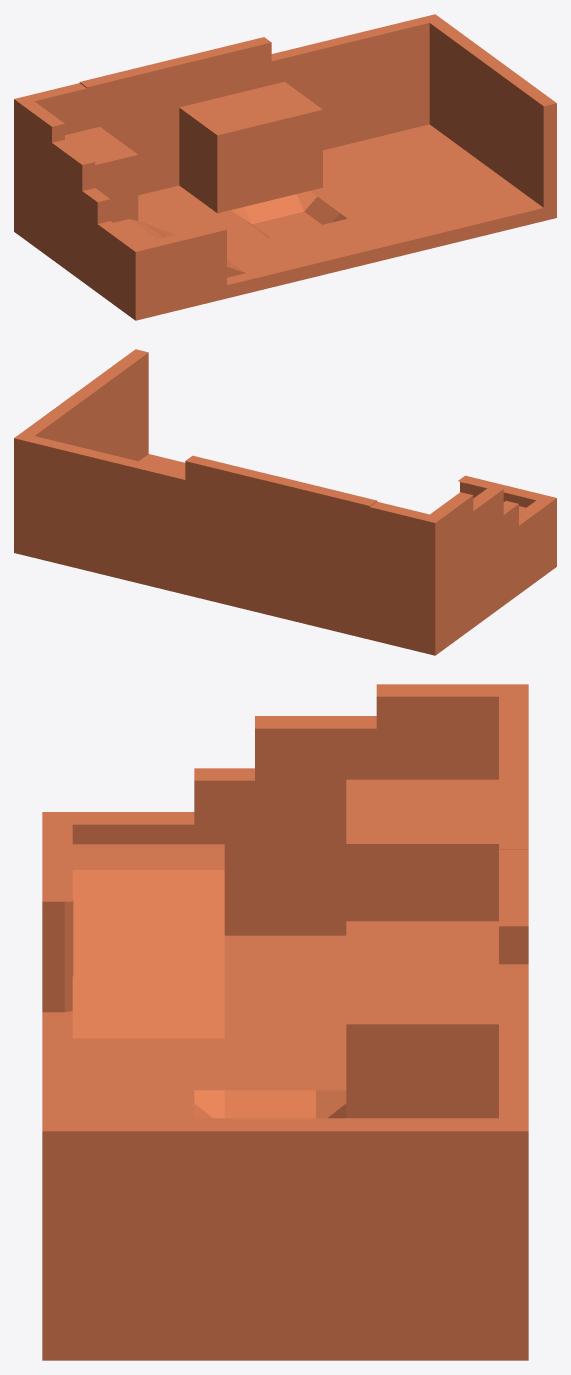
The model's file is Level_3.fbx.
3 views of the same model, one above another, from view 1: azimuth 30°, elevation 25°; view 2: azimuth 150°, elevation 25°; view 3: azimuth 270°, elevation 25° (orthographic). The views are drawn at different scales.
Parts seen in each view (by area): view 1: Cube; view 2: Cube; view 3: Cube.
Part boxes in pixels (box(x1,y1,x2,y2)): Cube: box(14, 14, 556, 320); Cube: box(14, 349, 556, 655); Cube: box(42, 684, 528, 1360).
Size of the model in its own units: 2000 by 607 by 1000.
